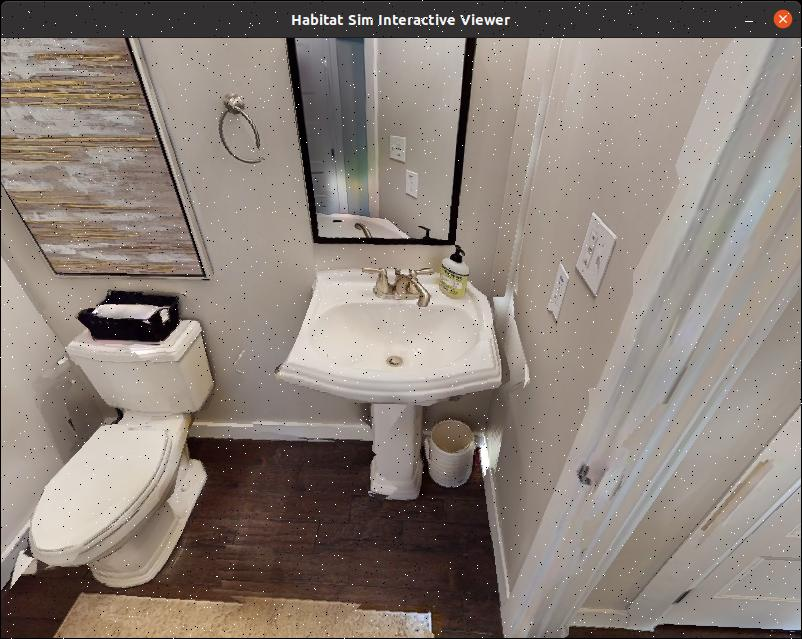sink: (275, 241, 513, 520)
toilet: (0, 270, 236, 593)
